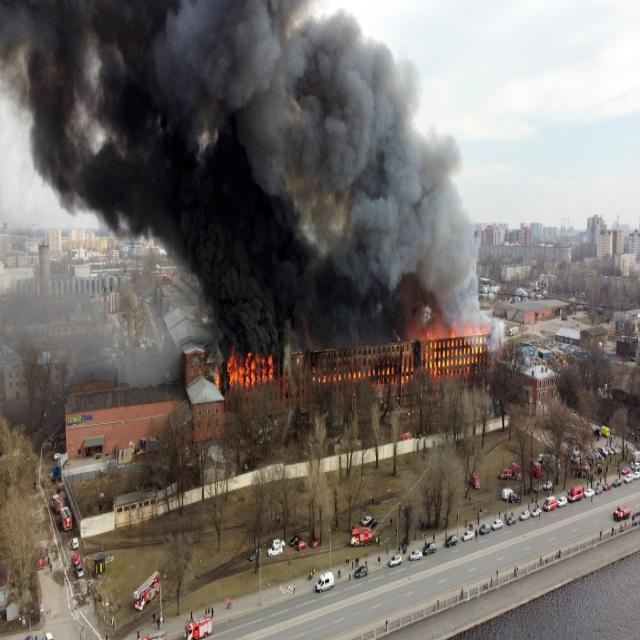Fire: (314, 346, 414, 394), (421, 325, 489, 378), (228, 346, 274, 390), (214, 363, 222, 389)
Smoke: (0, 0, 496, 347)
